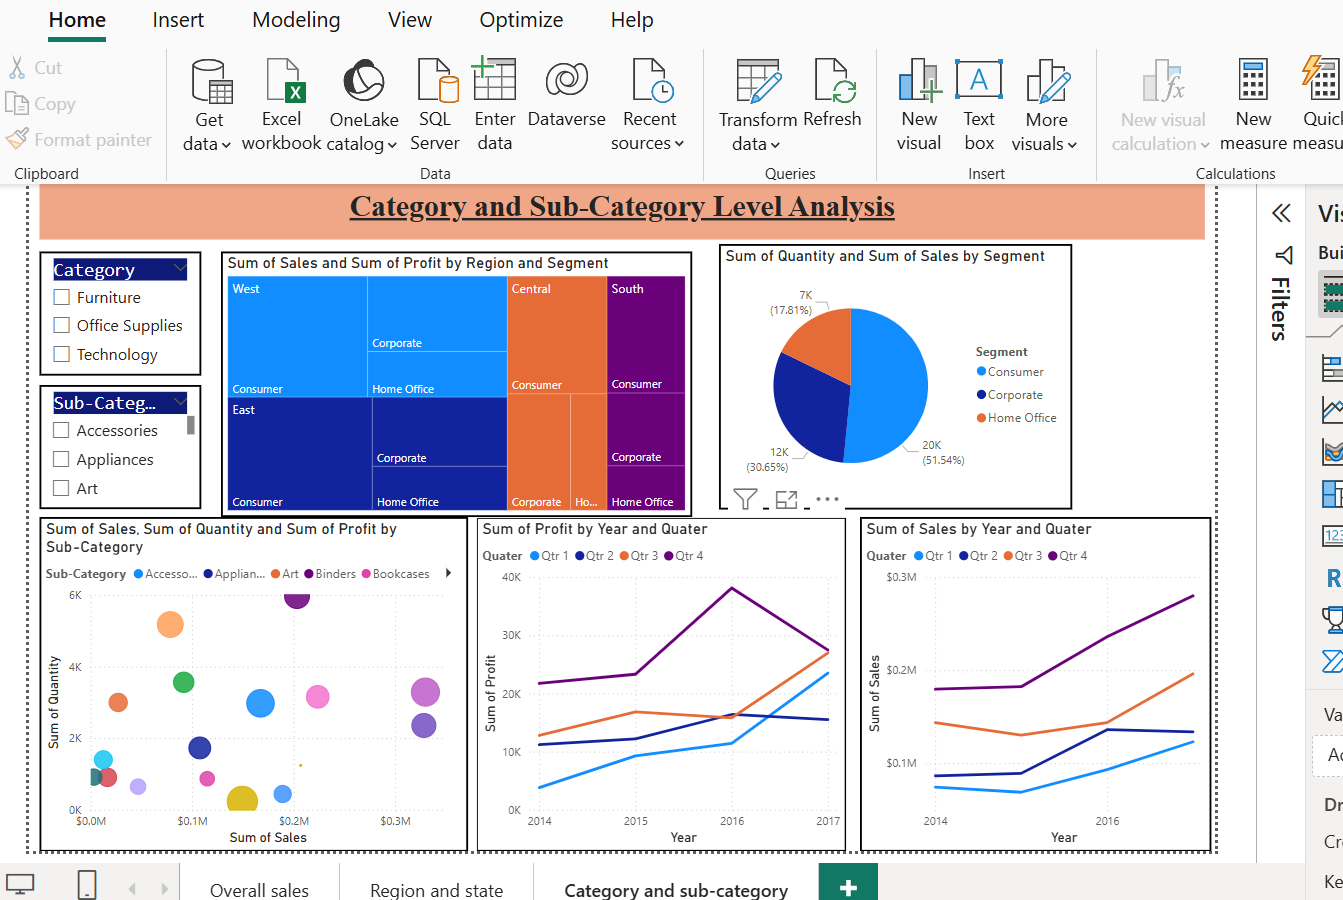

Layout of this report page (visuals, bound fields, positions):
{"tool":"powerbi","page":{"name":"Category and sub-category","canvas":[1280,720],"ordinal":2},"visuals":[{"type":"textbox","box":[11.3,0,1258.1,59.9],"z":0},{"type":"slicer","fields":{"Values":["Orders.Category"]},"box":[11.9,72.9,174.6,133.9],"z":1000},{"type":"slicer","fields":{"Values":["Orders.Sub-Category"]},"box":[11.9,216.9,174.6,133.9],"z":2000},{"type":"treemap","fields":{"Details":["Orders.Segment"],"Group":["Orders.Region"],"Values":["Sum(Orders.Sales)"]},"box":[206.8,72.9,508.5,286.4],"z":3000},{"type":"pieChart","fields":{"Category":["Orders.Segment"],"Y":["Sum(Orders.Quantity)"]},"box":[744.1,64.4,381.4,286.4],"z":4000},{"type":"scatterChart","fields":{"X":["Sum(Orders.Sales)"],"Y":["Sum(Orders.Quantity)"],"Series":["Orders.Sub-Category"],"Size":["Sum(Orders.Profit)"]},"box":[11.9,359.3,462.7,361],"z":4001},{"type":"lineChart","fields":{"Category":["Orders.Year"],"Series":["Orders.Quater"],"Y":["Sum(Orders.Profit)"]},"box":[483.1,359.3,400,361],"z":4002},{"type":"lineChart","fields":{"Series":["Orders.Quater"],"Category":["Orders.Year"],"Y":["Sum(Orders.Sales)"]},"box":[896.6,359.3,379.7,361],"z":4003}]}

Visuals, with their boxes on the page's 1280x720 design canvas (x1, y1, x2, y2). These are canvas units, not pixel positions in the 1343x900 screenshot, which may show the page scaled, cropped or inside an application window:
textbox: <box>11,0,1269,60</box>
slicer - Orders.Category: <box>12,73,186,207</box>
slicer - Orders.Sub-Category: <box>12,217,186,351</box>
treemap - Orders.Segment x Orders.Region: <box>207,73,715,359</box>
pieChart - Orders.Segment x Sum(Orders.Quantity): <box>744,64,1126,351</box>
scatterChart - Sum(Orders.Sales) x Sum(Orders.Quantity): <box>12,359,475,720</box>
lineChart - Orders.Year x Orders.Quater: <box>483,359,883,720</box>
lineChart - Orders.Quater x Orders.Year: <box>897,359,1276,720</box>
